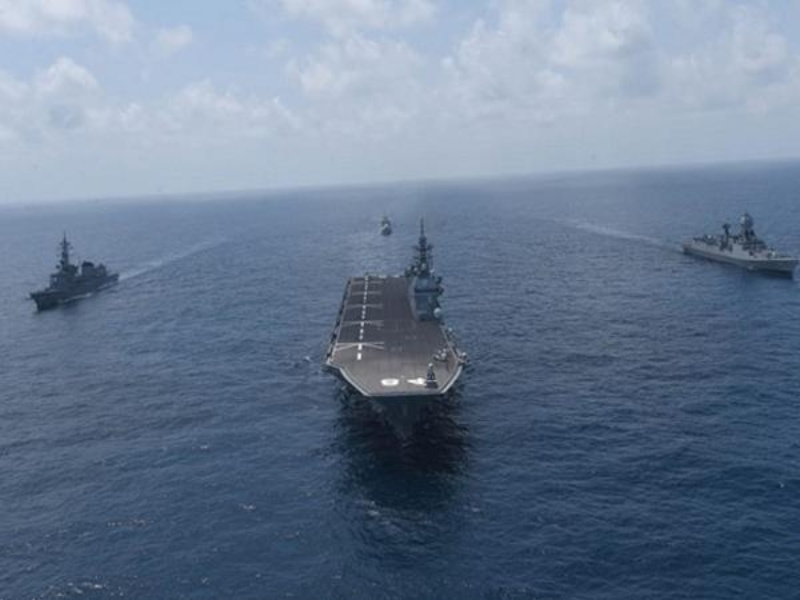carrier: (322, 240, 469, 447)
cruise: (664, 209, 795, 279), (32, 232, 123, 316), (369, 210, 405, 238)
